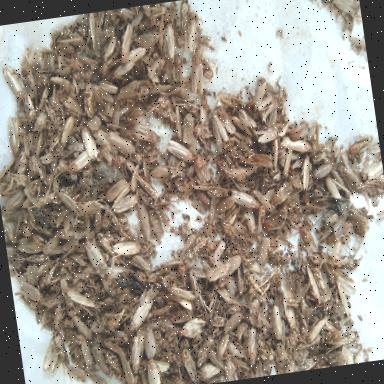pbw: (124, 299, 157, 335), (126, 331, 151, 376), (203, 254, 243, 282), (84, 237, 110, 280), (54, 185, 84, 221), (164, 282, 197, 314), (192, 328, 218, 368), (96, 230, 123, 267), (106, 126, 137, 158), (17, 40, 43, 78), (2, 63, 26, 104), (326, 328, 362, 355), (90, 124, 118, 158), (293, 222, 318, 260), (165, 136, 196, 166), (173, 0, 194, 44), (186, 52, 207, 96), (175, 314, 208, 342), (218, 204, 244, 238), (90, 342, 112, 382), (303, 314, 332, 344), (182, 234, 213, 262), (228, 185, 260, 212), (92, 310, 126, 335), (116, 22, 137, 62), (212, 276, 238, 308), (116, 345, 137, 384), (279, 132, 313, 156), (88, 80, 115, 110), (65, 285, 96, 311), (5, 116, 24, 158), (324, 172, 352, 200), (323, 220, 355, 244), (23, 52, 39, 100), (110, 192, 142, 216), (138, 174, 162, 206), (96, 50, 123, 78), (190, 52, 215, 82), (208, 108, 228, 145), (334, 278, 352, 319), (56, 48, 84, 74), (243, 326, 261, 366), (80, 80, 98, 120), (57, 114, 78, 148), (136, 202, 153, 244), (102, 201, 123, 235), (28, 154, 50, 186), (244, 270, 266, 302), (306, 262, 322, 306), (314, 264, 332, 303), (16, 280, 44, 305), (230, 220, 254, 249), (20, 88, 38, 126), (220, 310, 246, 336), (65, 150, 93, 174), (216, 104, 237, 136), (104, 178, 132, 202), (37, 262, 61, 290), (346, 133, 375, 156), (80, 123, 98, 160), (179, 348, 198, 383), (15, 234, 45, 256), (203, 286, 221, 322), (184, 18, 202, 54), (178, 112, 197, 146), (161, 22, 178, 60), (134, 122, 162, 145), (154, 17, 170, 57), (192, 154, 212, 186), (212, 332, 233, 362), (270, 180, 294, 206), (134, 30, 162, 52), (297, 157, 314, 193), (326, 256, 360, 274), (188, 269, 202, 312), (72, 312, 92, 342), (96, 162, 121, 186), (118, 46, 148, 66), (116, 78, 142, 101), (74, 50, 100, 73), (268, 304, 284, 341), (228, 113, 252, 137), (131, 252, 154, 277), (110, 288, 132, 314), (255, 236, 274, 266), (0, 155, 19, 185), (305, 124, 322, 157), (254, 188, 274, 216), (208, 347, 228, 375), (111, 239, 142, 257), (57, 224, 88, 242), (178, 233, 200, 258), (62, 94, 84, 119), (86, 12, 100, 51), (70, 28, 91, 54), (142, 326, 158, 360), (281, 296, 297, 330), (250, 76, 268, 106), (100, 35, 120, 62), (294, 333, 322, 352), (327, 240, 346, 268), (44, 98, 60, 131), (34, 256, 60, 276), (14, 252, 51, 266), (204, 192, 220, 224), (157, 94, 174, 124), (233, 264, 248, 298), (363, 158, 384, 182), (30, 219, 54, 240), (101, 262, 129, 280), (111, 60, 136, 80), (23, 187, 43, 212), (205, 182, 230, 202), (176, 96, 201, 116), (230, 134, 252, 156), (229, 352, 251, 374), (38, 288, 62, 308), (273, 340, 289, 370), (280, 148, 296, 178), (237, 106, 257, 130), (127, 162, 143, 192), (42, 232, 62, 256), (253, 204, 268, 236), (194, 119, 216, 140), (65, 362, 88, 382), (78, 198, 105, 215), (210, 239, 229, 263), (256, 330, 270, 362), (101, 10, 117, 38), (107, 102, 123, 130), (298, 200, 330, 214), (172, 104, 184, 141), (145, 358, 162, 384), (166, 308, 192, 325), (288, 120, 310, 140), (269, 138, 283, 169), (328, 168, 346, 192), (254, 126, 278, 144), (34, 86, 50, 113), (3, 190, 27, 208), (48, 73, 72, 91), (224, 164, 248, 182), (2, 204, 26, 222), (343, 163, 360, 188), (30, 112, 51, 132), (148, 82, 176, 97), (32, 130, 46, 160), (170, 54, 185, 82), (80, 337, 94, 367), (222, 273, 238, 299), (286, 166, 302, 192), (304, 190, 330, 206), (196, 94, 210, 123), (3, 220, 18, 247), (226, 340, 246, 360), (15, 170, 35, 190), (234, 128, 254, 148), (36, 188, 57, 207), (100, 275, 118, 297), (252, 152, 274, 170), (166, 84, 188, 102), (99, 80, 121, 98), (116, 102, 138, 120), (51, 302, 65, 330), (174, 262, 188, 290), (56, 34, 84, 48), (86, 367, 108, 384), (60, 234, 82, 251), (294, 356, 318, 371), (138, 286, 158, 304), (261, 216, 285, 231), (14, 154, 30, 176), (359, 158, 375, 180), (198, 364, 220, 380), (245, 207, 257, 236), (255, 94, 274, 112), (312, 164, 333, 180), (22, 130, 34, 158), (0, 168, 15, 190), (94, 25, 106, 52), (361, 172, 384, 186), (186, 134, 200, 157), (160, 258, 186, 270), (38, 304, 52, 326), (232, 322, 249, 340), (0, 183, 20, 198), (129, 8, 145, 26), (92, 209, 104, 233), (267, 107, 280, 129), (98, 26, 113, 45), (214, 198, 234, 212), (224, 360, 237, 381), (277, 118, 292, 136), (169, 369, 187, 384), (118, 6, 137, 20), (263, 208, 282, 222), (340, 150, 352, 172), (46, 52, 57, 76), (71, 252, 87, 268), (154, 358, 170, 374), (190, 199, 207, 214), (291, 204, 302, 226), (82, 216, 93, 238), (192, 181, 212, 193), (66, 340, 79, 358), (104, 339, 119, 354), (70, 280, 86, 294), (237, 155, 257, 166), (360, 182, 378, 194), (240, 164, 258, 176), (283, 359, 297, 373), (70, 242, 86, 254), (98, 110, 111, 124), (368, 140, 380, 154), (272, 170, 286, 182), (6, 244, 18, 256), (142, 4, 152, 17)
